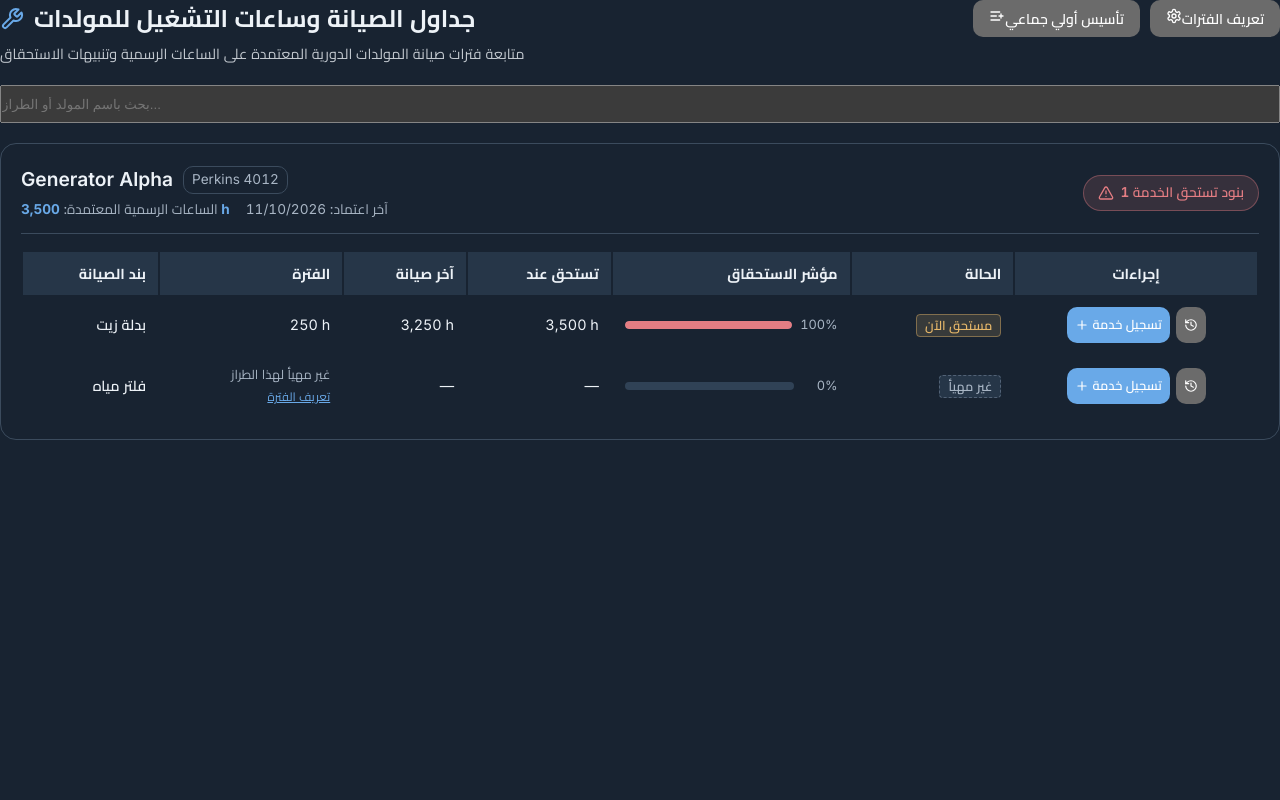
Test: GeneratorMaintenanceTable › displays configured oil to be deducted in commercial mode when oil configuration exists
The image size is (1280, 800).
expect the heading "Generator Alpha" is shown: met, box x1=21 y1=164 x2=173 y2=195
Click the button "تسجيل خدمة" in the row of "بدلة زيت". click: (1118, 325)
box: x1=1066 y1=307 x2=1170 y2=343
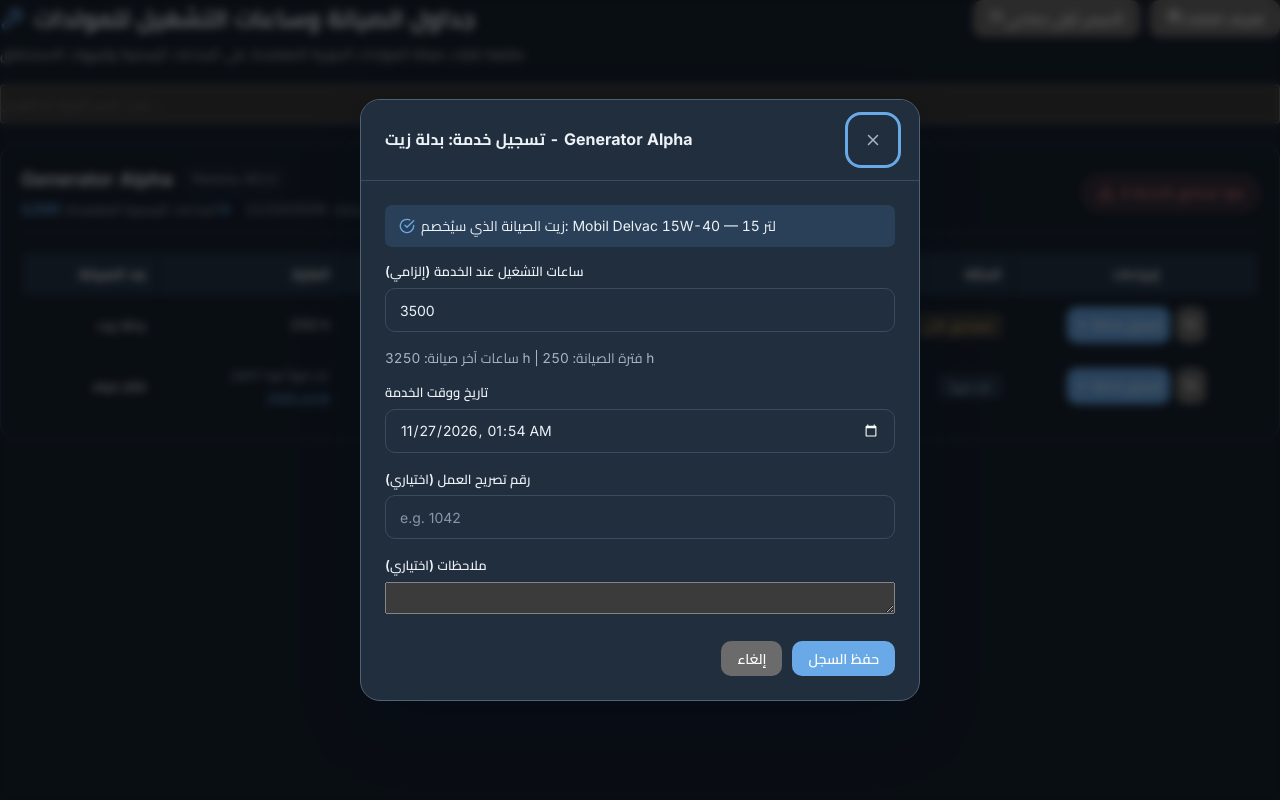
expect the text "زيت الصيانة الذي سيُخصم: Mobil Delvac 15W-40 — 15 لتر" is shown: met, box x1=385 y1=205 x2=895 y2=247
